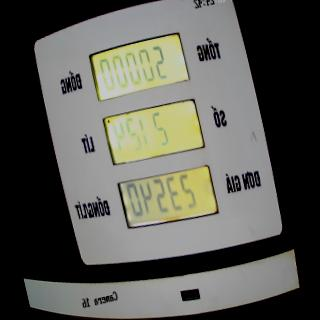screen: (84, 26, 222, 240)
